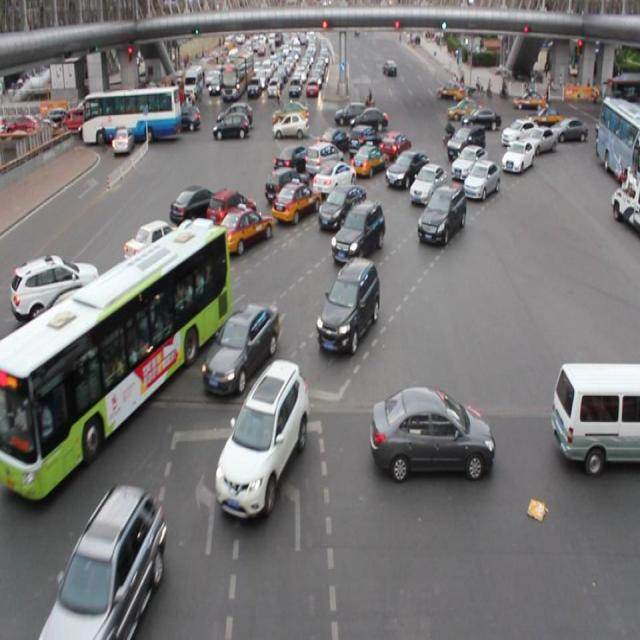car: (45, 487, 164, 640), (216, 361, 306, 520), (370, 384, 492, 475), (202, 302, 279, 392), (34, 286, 131, 355), (10, 253, 101, 321), (316, 258, 380, 354), (129, 243, 214, 303), (331, 200, 383, 262), (123, 218, 190, 266), (417, 184, 464, 246), (210, 207, 272, 254), (204, 188, 257, 234), (271, 182, 321, 225), (318, 184, 365, 228), (168, 184, 218, 225), (264, 167, 309, 209), (408, 161, 446, 209), (384, 149, 429, 189), (312, 160, 357, 198), (462, 159, 498, 200), (348, 141, 388, 177), (450, 143, 488, 179), (446, 125, 485, 158), (274, 146, 312, 178), (348, 122, 382, 157), (500, 138, 533, 174), (499, 117, 539, 146), (515, 127, 555, 154), (378, 131, 411, 163), (316, 128, 351, 152)
truck: (550, 359, 640, 467), (306, 141, 346, 178)
van: (1, 223, 227, 501)
